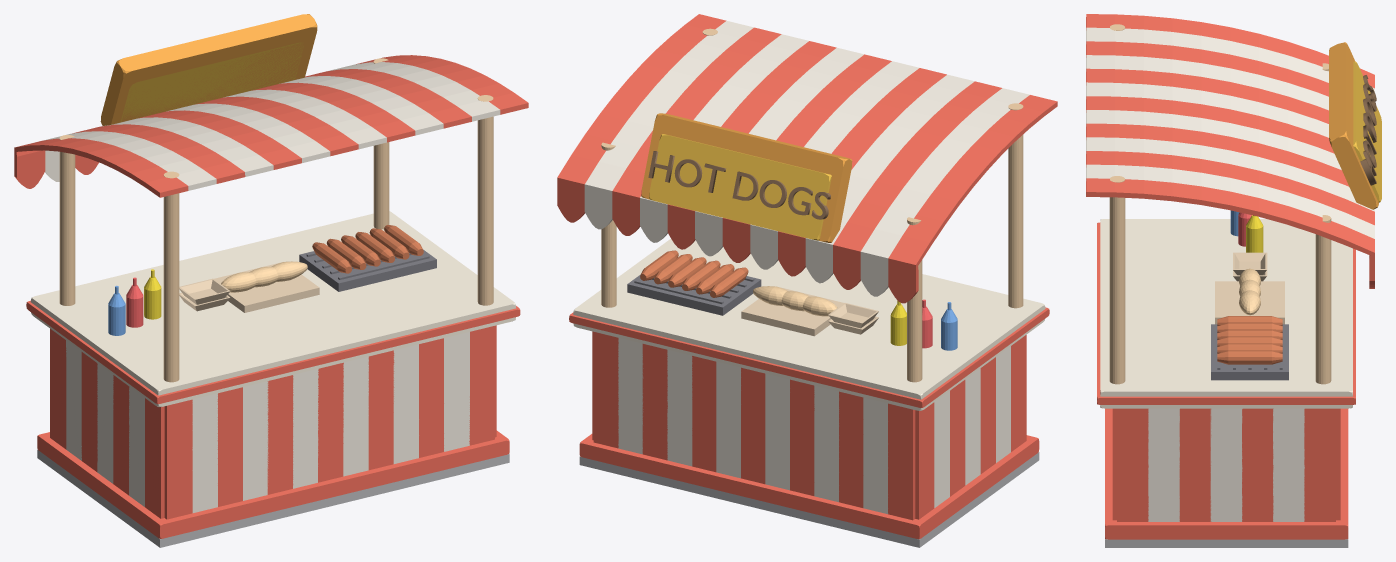
Rendered from 33-hot-dog-stand-hd8.glb.
3 views of the same model, side by side, from view 1: azimuth 30°, elevation 25°; view 2: azimuth 150°, elevation 25°; view 3: azimuth 270°, elevation 25° (orthographic). The views are drawn at different scales.
Parts seen in each view (by area): view 1: Countertop, Canopy, SignFrame, BaseTrim, SignPlate, CounterRim, BasePlate, Skirt_back_0, Post_2, Post_3, Skirt_back_6, Skirt_back_1 (+22 smaller); view 2: Canopy, Countertop, SignPlate, BaseTrim, SignFrame, CounterRim, BasePlate, Skirt_front_0, Skirt_front_12, Skirt_front_10, Skirt_front_9, Skirt_front_11 (+22 smaller); view 3: Canopy, Countertop, BaseTrim, SignFrame, Skirt_right_3, Skirt_right_6, Skirt_right_0, Skirt_right_1, Skirt_right_5, Skirt_right_4, Skirt_right_2, CounterRim (+18 smaller).
Boxes of the visible parts, left/top/right/bottom form: Countertop: left=30, top=211, right=515, bottom=406; Canopy: left=14, top=55, right=528, bottom=197; SignFrame: left=100, top=14, right=317, bottom=125; BaseTrim: left=37, top=430, right=509, bottom=538; SignPlate: left=120, top=42, right=303, bottom=122; CounterRim: left=26, top=300, right=520, bottom=404; BasePlate: left=37, top=449, right=509, bottom=547; Skirt_back_0: left=164, top=399, right=192, bottom=519; Post_2: left=163, top=171, right=179, bottom=382; Post_3: left=477, top=95, right=493, bottom=305; Skirt_back_6: left=318, top=362, right=343, bottom=482; Skirt_back_1: left=192, top=393, right=217, bottom=512; Canopy: left=557, top=14, right=1057, bottom=303; Countertop: left=573, top=239, right=1045, bottom=410; SignPlate: left=649, top=134, right=831, bottom=240; BaseTrim: left=579, top=434, right=1039, bottom=539; SignFrame: left=641, top=113, right=852, bottom=242; CounterRim: left=569, top=307, right=1049, bottom=407; BasePlate: left=579, top=452, right=1039, bottom=547; Skirt_front_0: left=888, top=403, right=915, bottom=520; Skirt_front_12: left=593, top=332, right=618, bottom=448; Skirt_front_10: left=642, top=344, right=667, bottom=460; Skirt_front_9: left=667, top=349, right=692, bottom=466; Skirt_front_11: left=618, top=338, right=643, bottom=454; Canopy: left=1086, top=14, right=1374, bottom=288; Countertop: left=1100, top=219, right=1352, bottom=408; BaseTrim: left=1105, top=408, right=1348, bottom=539; SignFrame: left=1329, top=42, right=1378, bottom=209; Skirt_right_3: left=1210, top=408, right=1242, bottom=521; Skirt_right_6: left=1117, top=408, right=1148, bottom=521; Skirt_right_0: left=1304, top=408, right=1335, bottom=521; Skirt_right_1: left=1273, top=408, right=1304, bottom=521; Skirt_right_5: left=1148, top=408, right=1179, bottom=521; Skirt_right_4: left=1179, top=408, right=1211, bottom=521; Skirt_right_2: left=1242, top=408, right=1273, bottom=521; CounterRim: left=1097, top=222, right=1355, bottom=404.
Bounding box in the file's own units: 2.7 × 2.66 × 1.9.
